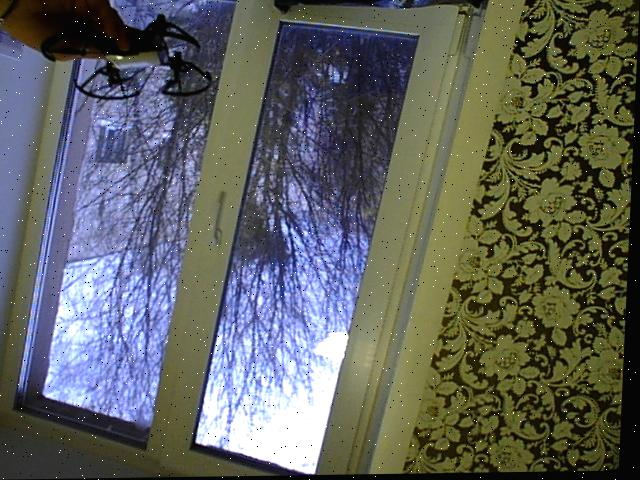drone: (35, 15, 222, 104)
